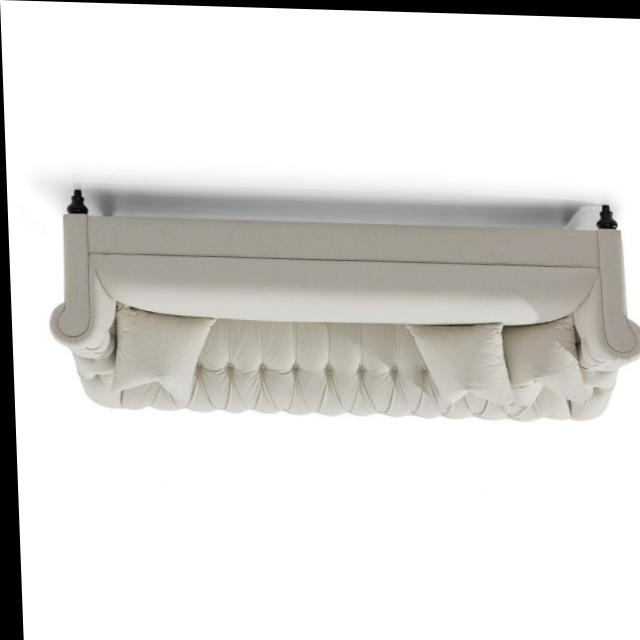Sofa: (42, 181, 640, 424)
